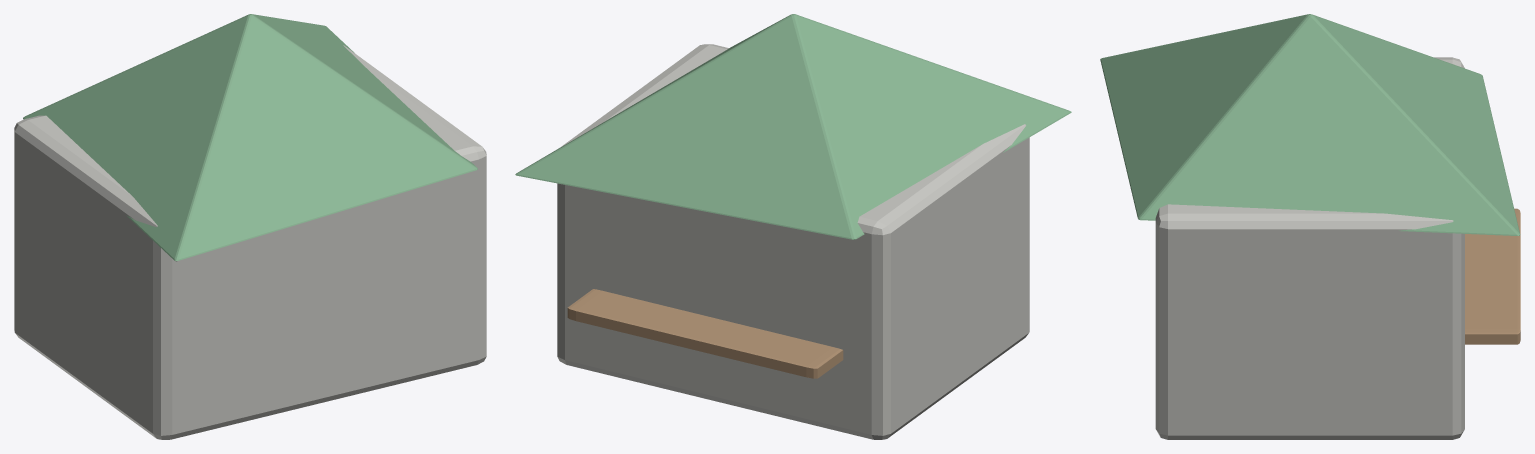
Rendered from doll_house_inn.glb.
The picture shows the model from 3 angles, left to right: view 1: azimuth 30°, elevation 25°; view 2: azimuth 150°, elevation 25°; view 3: azimuth 270°, elevation 25°; orthographic projection. The views are drawn at different scales.
Parts seen in each view (by area): view 1: Inn_Body, Inn_Roof; view 2: Inn_Body, Inn_Roof, Inn_Balcony; view 3: Inn_Body, Inn_Roof, Inn_Balcony.
Boxes of the visible parts, x1,y1,x2,y2 form: Inn_Body: [14, 45, 486, 439]; Inn_Roof: [23, 14, 477, 261]; Inn_Body: [557, 44, 1029, 439]; Inn_Roof: [515, 14, 1071, 239]; Inn_Balcony: [567, 289, 843, 378]; Inn_Body: [1155, 57, 1464, 439]; Inn_Roof: [1100, 14, 1520, 235]; Inn_Balcony: [1465, 208, 1520, 344].
Bounding box in the file's own units: 6.79 × 6.18 × 6.8.
